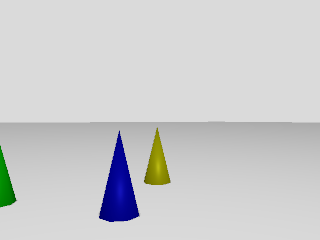blue: (99, 129, 140, 222)
green: (0, 138, 18, 208)
yellow: (142, 127, 172, 185)
